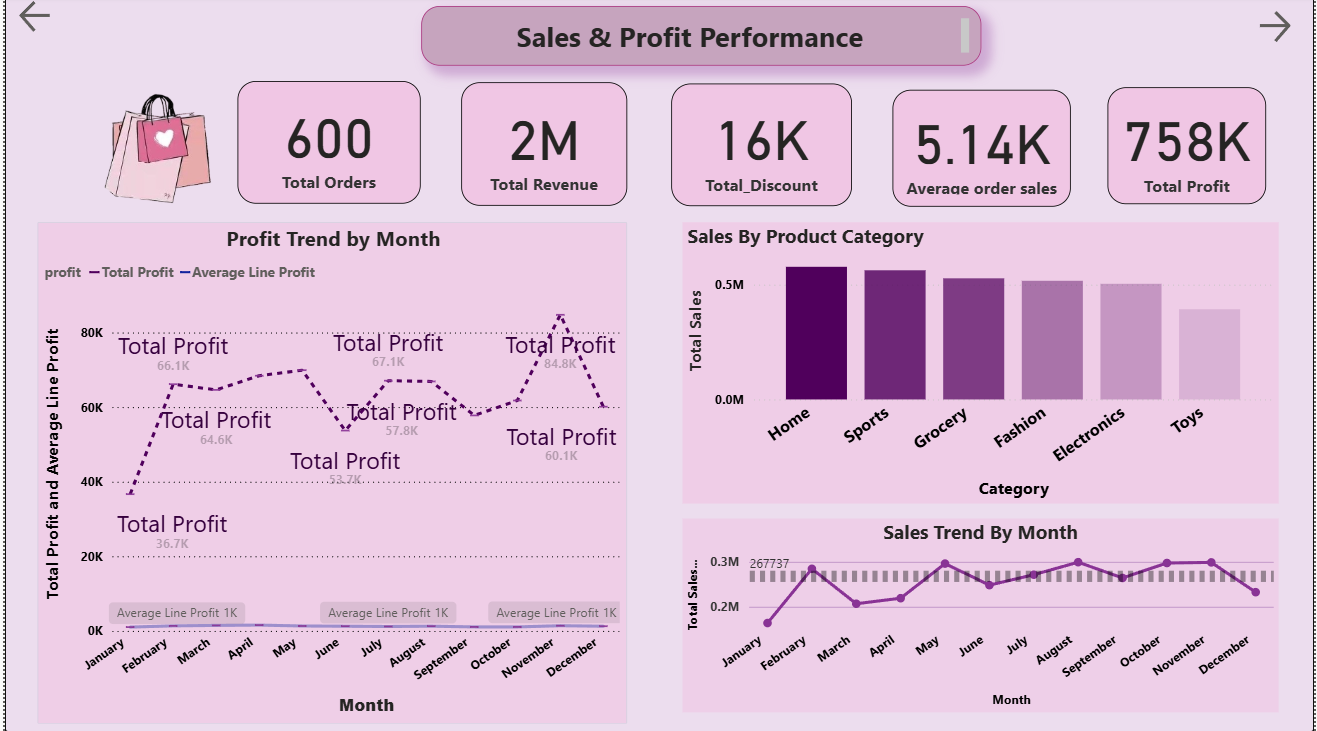

The page's visual inventory and layout, read from the dashboard file:
{"tool":"powerbi","page":{"name":"Sales & Profit Performance  ","canvas":[1280,720],"ordinal":1},"visuals":[{"type":"card","fields":{"Values":["measure.Total Revenue"]},"box":[446.7,84.4,162.2,121.1],"z":0},{"type":"card","fields":{"Values":["measure.Total Profit"]},"box":[1078.9,88.9,155.6,114.4],"z":1000},{"type":"card","fields":{"Values":["measure.Total Orders"]},"box":[227.8,83.3,178.9,120],"z":2000},{"type":"card","fields":{"Values":["measure.Total_Discount"]},"box":[652.2,85.6,176.7,120],"z":3000},{"type":"card","fields":{"Values":["measure.Average Sales"]},"box":[867.8,91.1,174.4,114.4],"z":4000},{"type":"textbox","box":[407.2,9.8,547.8,58.7],"z":5000},{"type":"lineChart","title":"Sales Trend By Month","fields":{"Y":["measure.Total Sales"],"Category":["Orders.OrderDate.Variation.Date Hierarchy.Month"]},"box":[662.8,511.1,583.3,189.5],"z":6000},{"type":"lineChart","title":"\tProfit Trend by Month","fields":{"Y":["measure.Total Profit","measure.Average Line Profit"],"Category":["Orders.OrderDate.Variation.Date Hierarchy.Month"]},"box":[31.8,221.3,577.2,490.4],"z":7000},{"type":"lineClusteredColumnComboChart","title":"Sales By Product Category","fields":{"Category":["Products.Category"],"Y":["measure.Total Sales"]},"box":[662.8,221.3,583.3,275.1],"z":8000},{"type":"actionButton","box":[1221.6,9.8,50.1,40.4],"z":9000},{"type":"image","box":[10.2,38.6,256.8,219.3],"z":10000},{"type":"actionButton","box":[10,0,90,40],"z":11000}]}

Visuals, with their boxes in screenshot pixels (x1, y1, x2, y2), scaled from the page's 1280x720 canvas onto the 1317x731 screenshot:
card - measure.Total Revenue: x1=460, y1=86, x2=627, y2=209
card - measure.Total Profit: x1=1110, y1=90, x2=1270, y2=206
card - measure.Total Orders: x1=234, y1=85, x2=418, y2=206
card - measure.Total_Discount: x1=671, y1=87, x2=853, y2=209
card - measure.Average Sales: x1=893, y1=92, x2=1072, y2=209
textbox: x1=419, y1=10, x2=983, y2=70
"Sales Trend By Month" lineChart: x1=682, y1=519, x2=1282, y2=711
"	Profit Trend by Month" lineChart: x1=33, y1=225, x2=627, y2=723
"Sales By Product Category" lineClusteredColumnComboChart: x1=682, y1=225, x2=1282, y2=504
actionButton: x1=1257, y1=10, x2=1308, y2=51
image: x1=10, y1=39, x2=275, y2=262
actionButton: x1=10, y1=0, x2=103, y2=41
